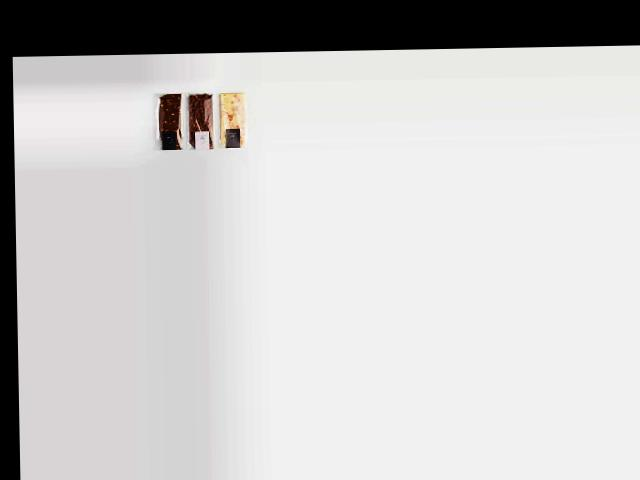chocolate: (153, 91, 181, 150)
